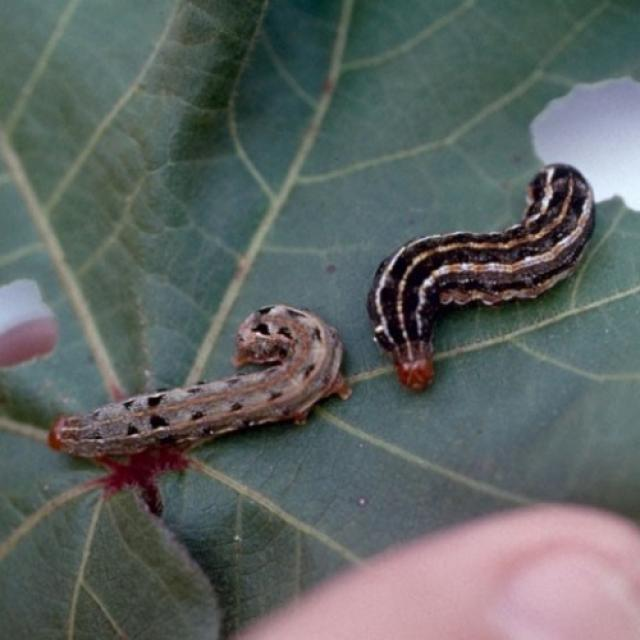armyworm: (365, 160, 595, 392), (46, 301, 352, 462)
